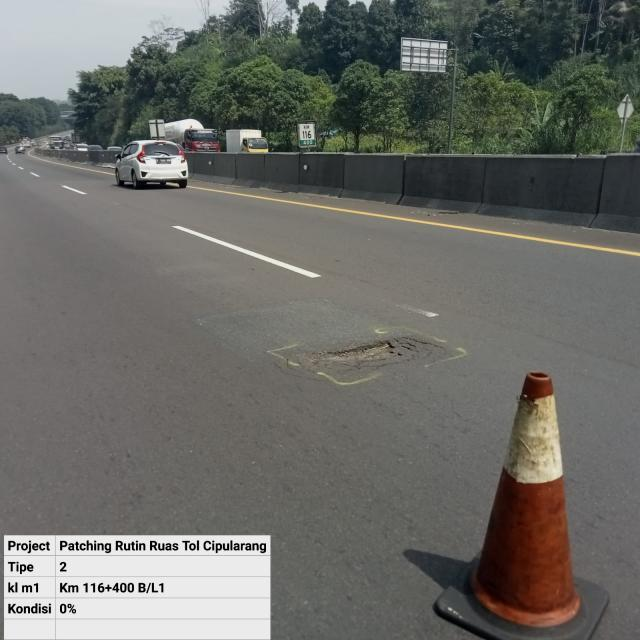Buraco: (292, 338, 419, 370)
